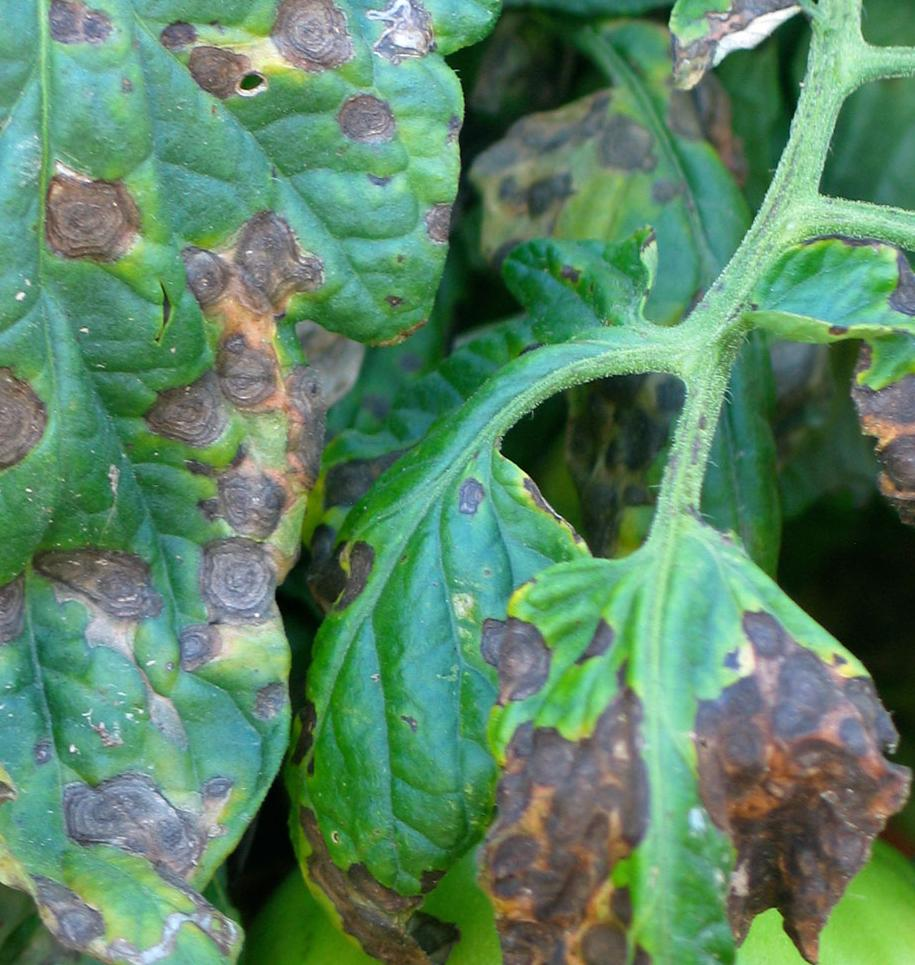Tomato Early blight leaf: (0, 0, 507, 965), (398, 520, 894, 965), (247, 438, 535, 965)
